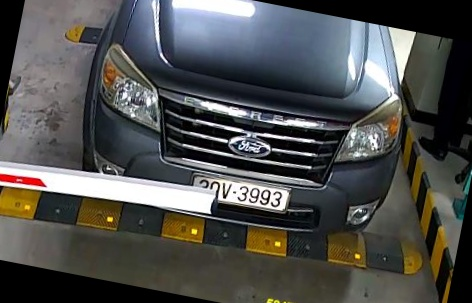plate: (189, 157, 294, 216)
